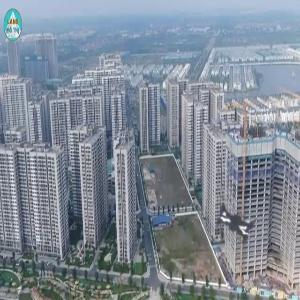drone: (184, 167, 292, 275)
